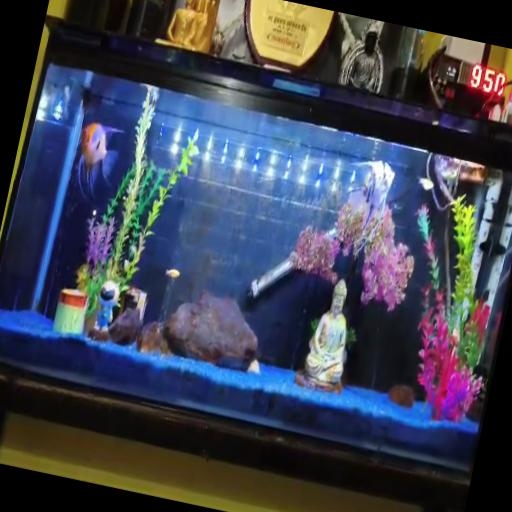Fish: (348, 162, 394, 236), (77, 123, 122, 197), (418, 178, 433, 191), (166, 269, 179, 279)
